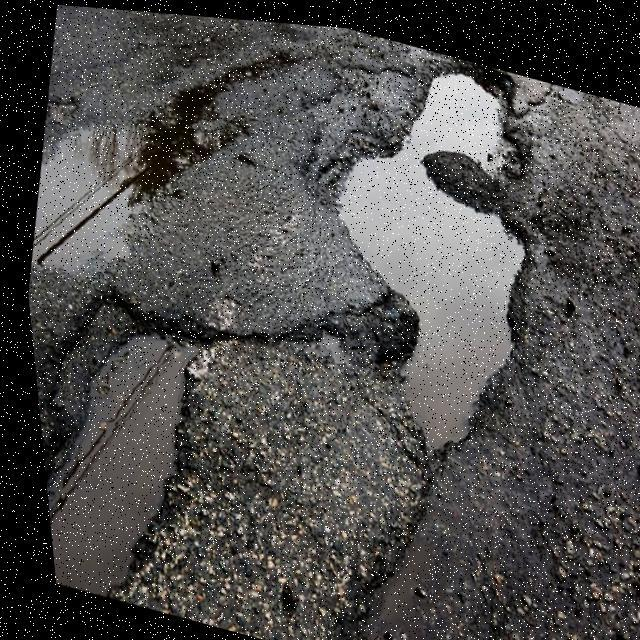pothole: (268, 17, 578, 486), (21, 274, 240, 622)
